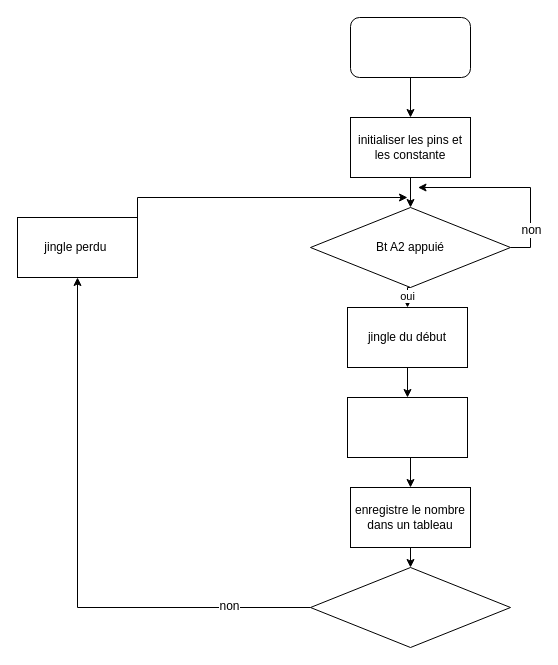
Image size: 558x665. Some labels were removed from this diagram. Here are the shapes that lost their labels. From the top down, the centre of each, then its label:
At point (410, 47): "Start".
At point (407, 427): "affiche un nombre aléatoire".
At point (410, 607): "bon bt appuié".
